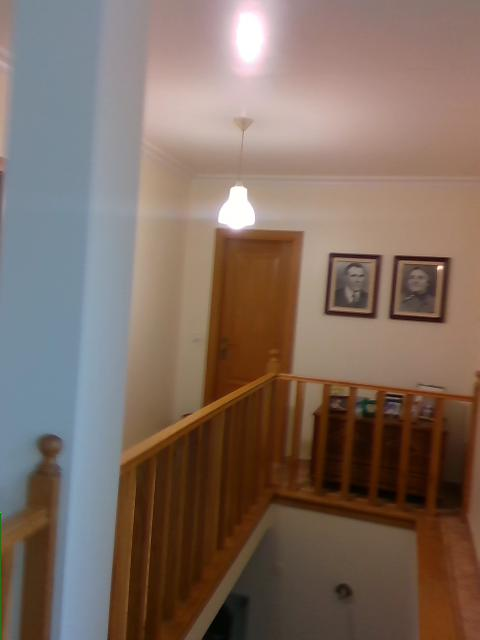door: (215, 237, 290, 442)
